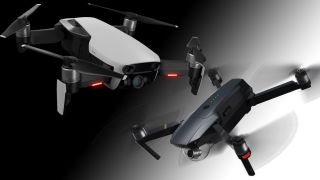drone: (1, 1, 199, 116), (121, 63, 314, 178)
